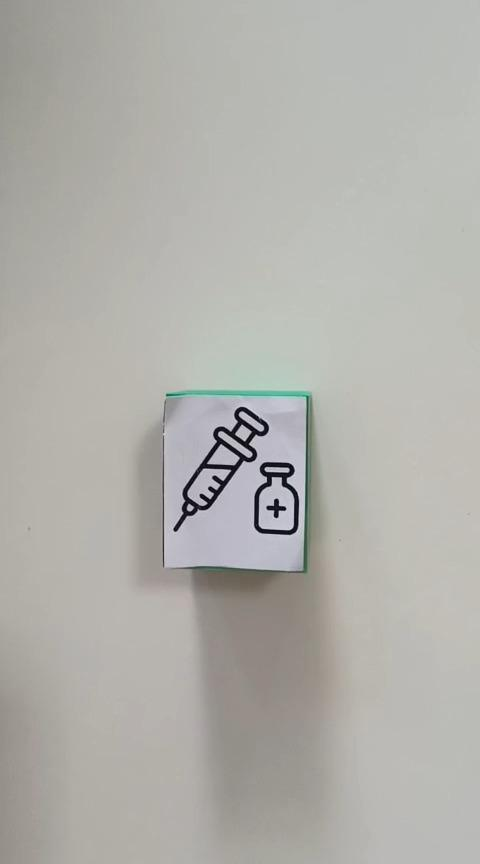antiseptic cream: (164, 388, 312, 575)
